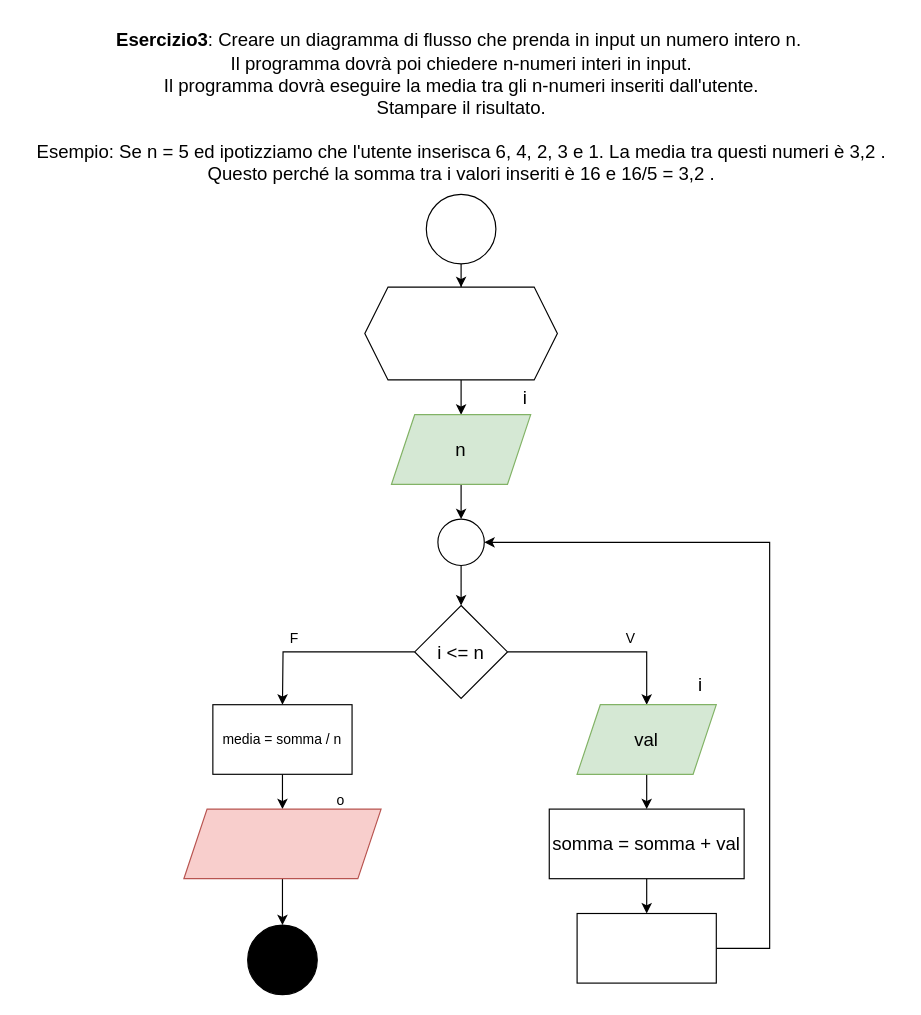
The diagram is 921 pixels wide and 1015 high, and some of its shapes have lost their labels. The centre of each missing label's shape, as x and y in pixels:
"La media è: "+ media: point (282, 843)
i = i + 1: point (646, 947)
n, somma = 0, i = 1, val, media: point (460, 333)
